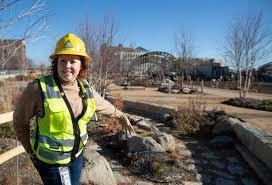helmet: (49, 33, 92, 61)
